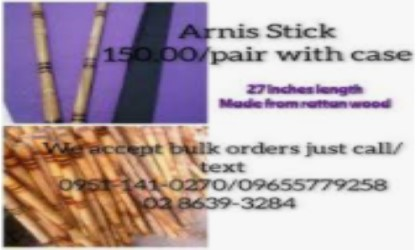baston_e: (107, 132, 185, 221), (5, 170, 87, 243), (22, 11, 64, 118), (69, 6, 103, 110), (4, 189, 46, 241)
baston_v: (99, 129, 114, 142), (138, 123, 153, 135), (58, 130, 72, 142), (13, 140, 27, 151), (75, 125, 94, 133), (31, 132, 46, 142), (180, 229, 191, 241), (137, 228, 153, 236), (155, 230, 169, 238), (124, 235, 134, 246), (187, 226, 197, 236), (166, 233, 180, 240)
